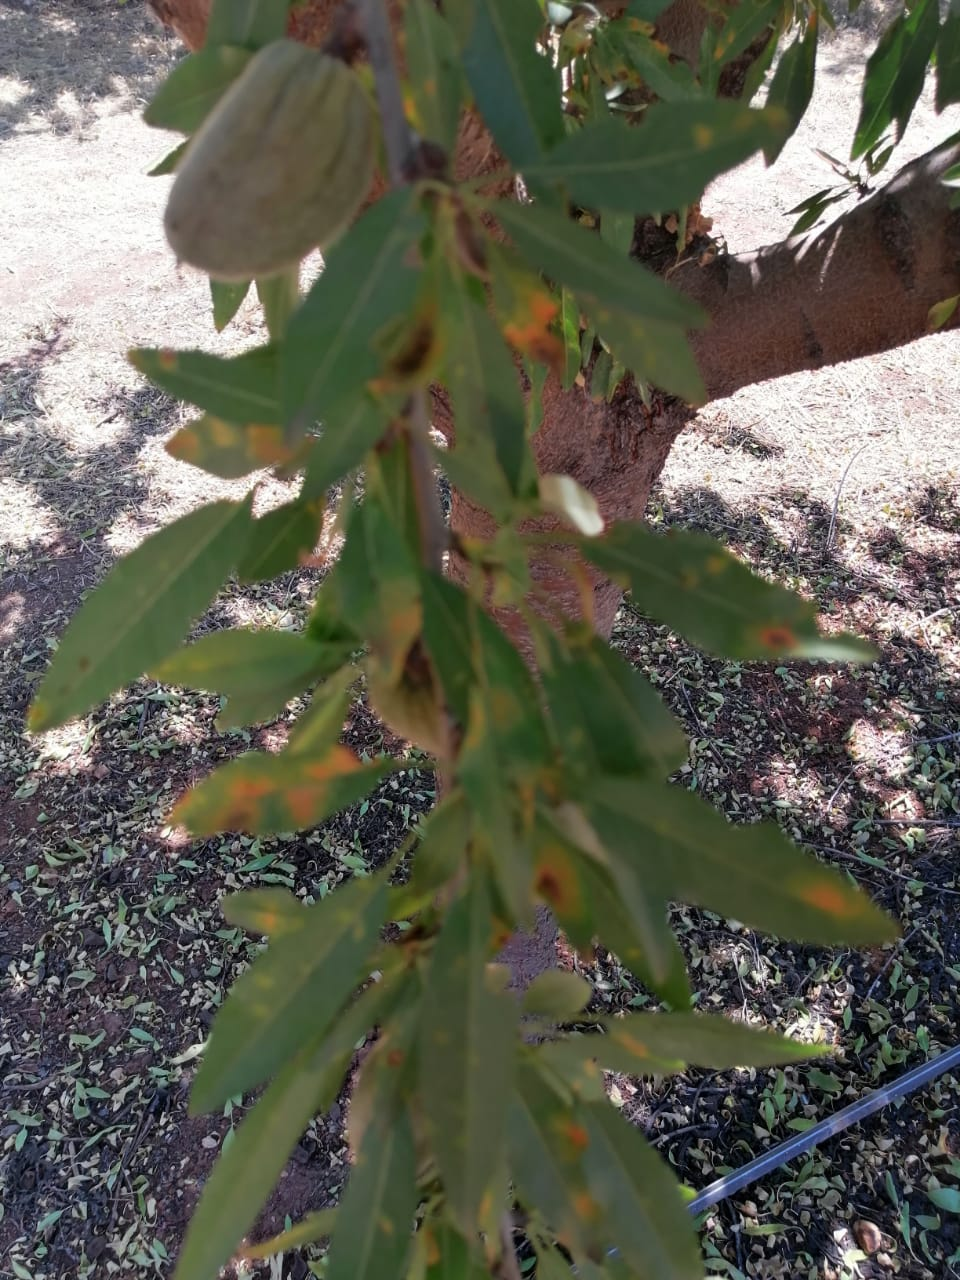polystigma: (567, 775, 899, 956), (579, 510, 883, 676), (161, 737, 398, 852)
